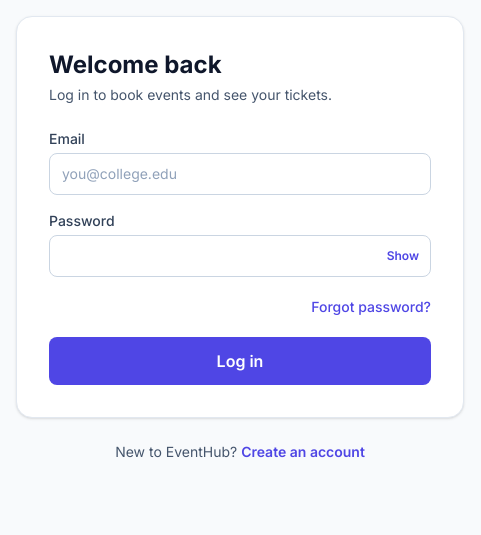
Test: LoginPage › shows the server answer for a wrong password
Type "ravi@eventhub.test" into the field labelled "Email" at (240, 174), box x1=49 y1=153 x2=431 y2=195
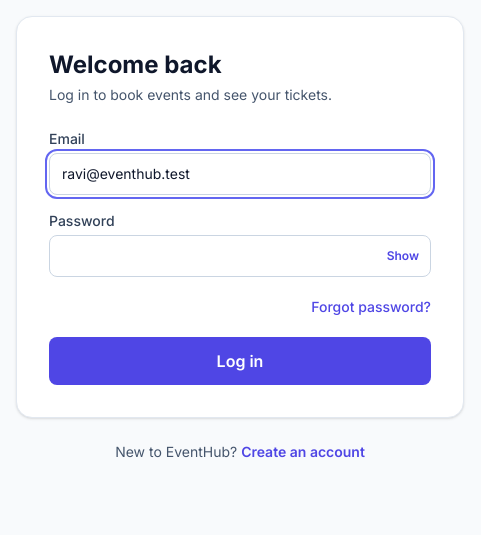
Type "not-the-password" into the password field labelled "Password" at (240, 256), box x1=49 y1=235 x2=431 y2=277
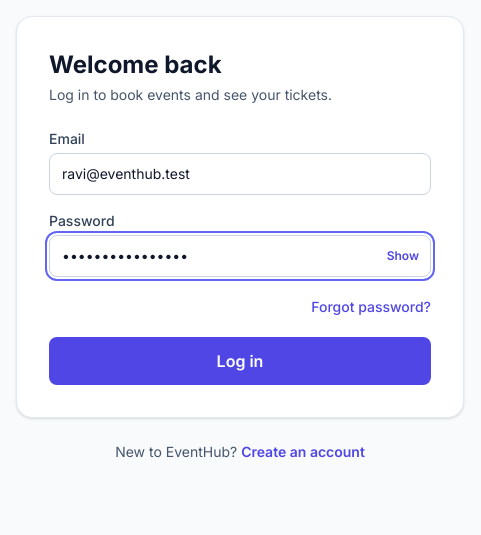
Click the button "Log in" at (240, 361), box x1=49 y1=337 x2=431 y2=385
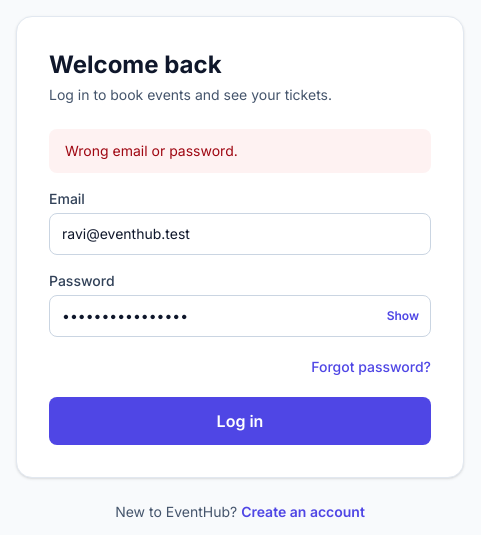
Now the message reads "Wrong email or password.", box x1=65 y1=142 x2=238 y2=159
